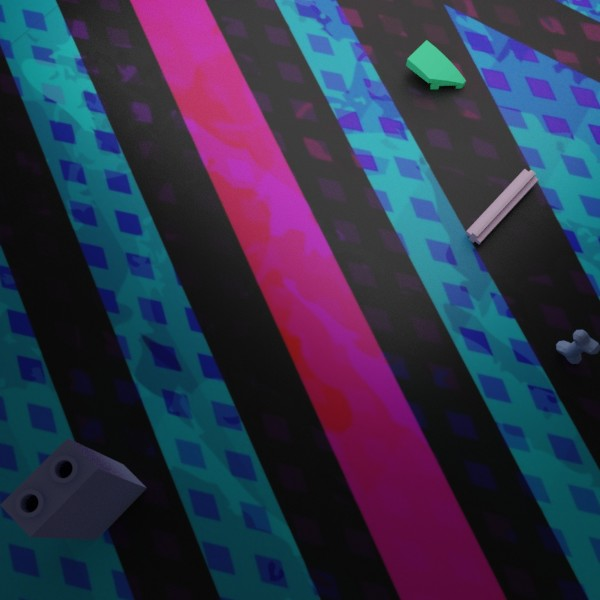lego: (0, 438, 146, 539), (465, 168, 538, 244), (405, 40, 465, 89), (556, 329, 599, 364)
